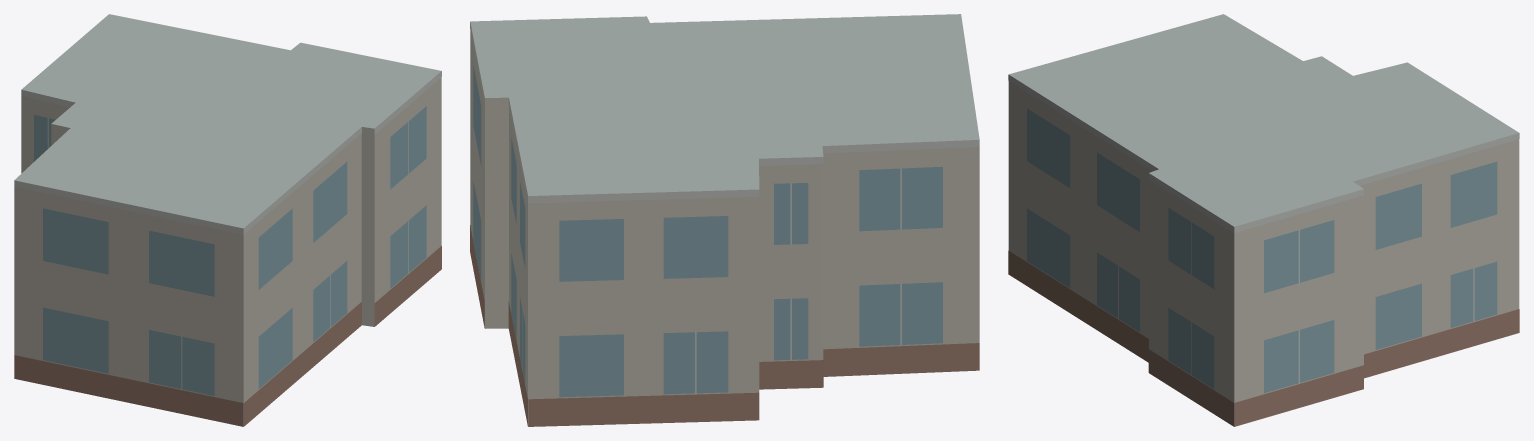
The model's file is survey-upis-32625326.glb.
3 renders of one model, left to right at view 1: azimuth 30°, elevation 25°; view 2: azimuth 150°, elevation 25°; view 3: azimuth 270°, elevation 25°, orthographic. The views are drawn at different scales.
Visible parts, largest first — view 1: survey-upis-32625326.tmp; view 2: survey-upis-32625326.tmp; view 3: survey-upis-32625326.tmp.
Boxes of the visible parts, x1=… form: survey-upis-32625326.tmp: x1=14, y1=14, x2=441, y2=426; survey-upis-32625326.tmp: x1=470, y1=14, x2=979, y2=426; survey-upis-32625326.tmp: x1=1008, y1=14, x2=1519, y2=426.
Size of the model in its own units: 17.93 by 7.85 by 18.18.
